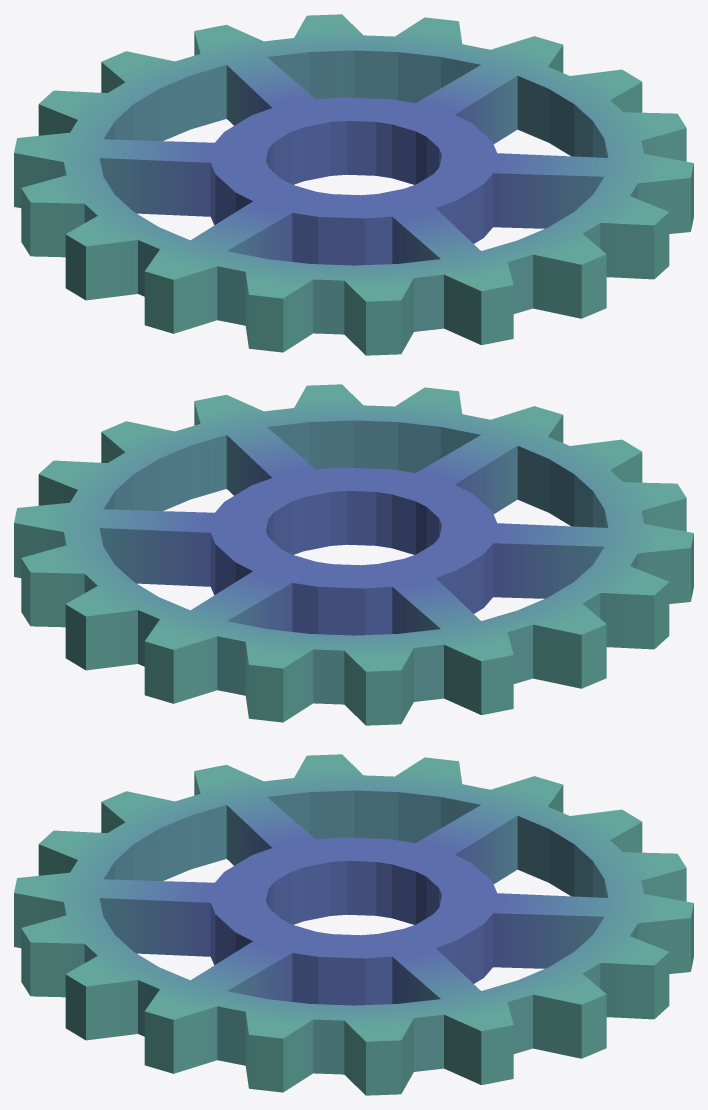
The model's file is gear2.fbx.
3 renders of one model, top to bottom at view 1: azimuth 30°, elevation 25°; view 2: azimuth 150°, elevation 25°; view 3: azimuth 270°, elevation 25°, orthographic.
Visible parts, largest first — view 1: gear2; view 2: gear2; view 3: gear2.
Part boxes in pixels (x1,y1,x2,y2): gear2: (14,14,693,355); gear2: (14,384,693,725); gear2: (14,754,693,1095).
Bounding box in the file's own units: 218 × 19.08 × 218.
1 material, 1 textured.
